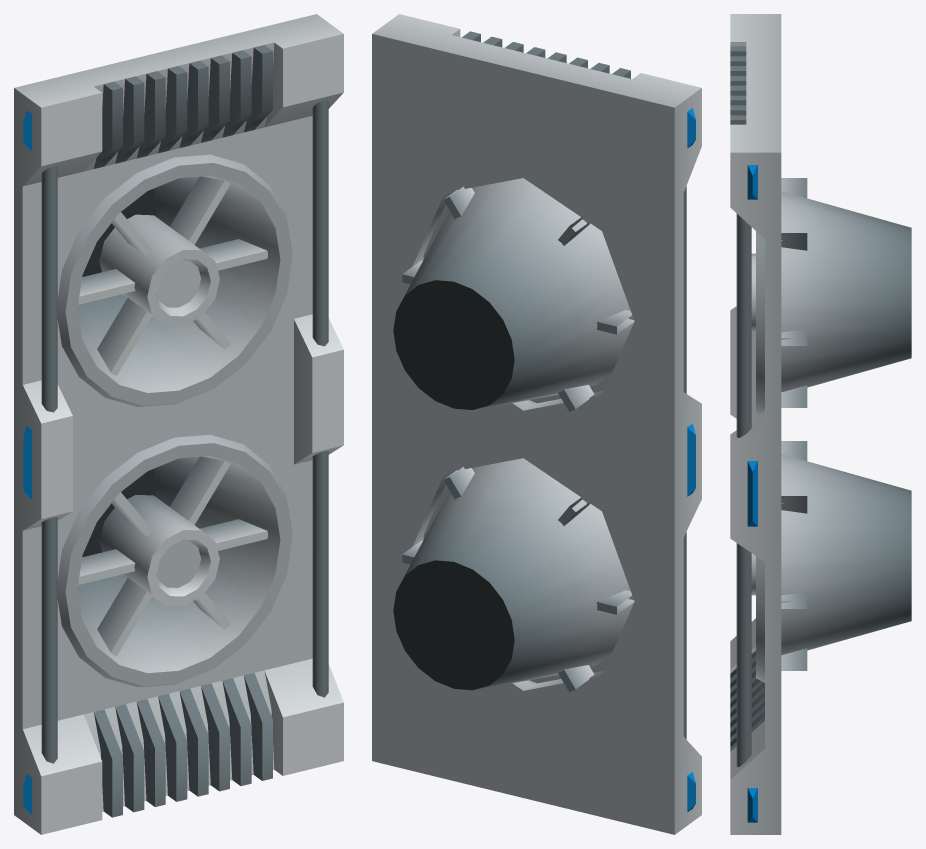
File: Ventilation_010.fbx
3 views of the same model, side by side, from view 1: azimuth 30°, elevation 25°; view 2: azimuth 150°, elevation 25°; view 3: azimuth 270°, elevation 25° (orthographic). The views are drawn at different scales.
Visible parts, largest first — view 1: Ventilation_010; view 2: Ventilation_010; view 3: Ventilation_010.
Part boxes in pixels (x1,y1,x2,y2): Ventilation_010: (14,14,343,834); Ventilation_010: (372,14,701,834); Ventilation_010: (730,14,911,834).
Bounding box in the file's own units: 83.17 × 44.2 × 184.
